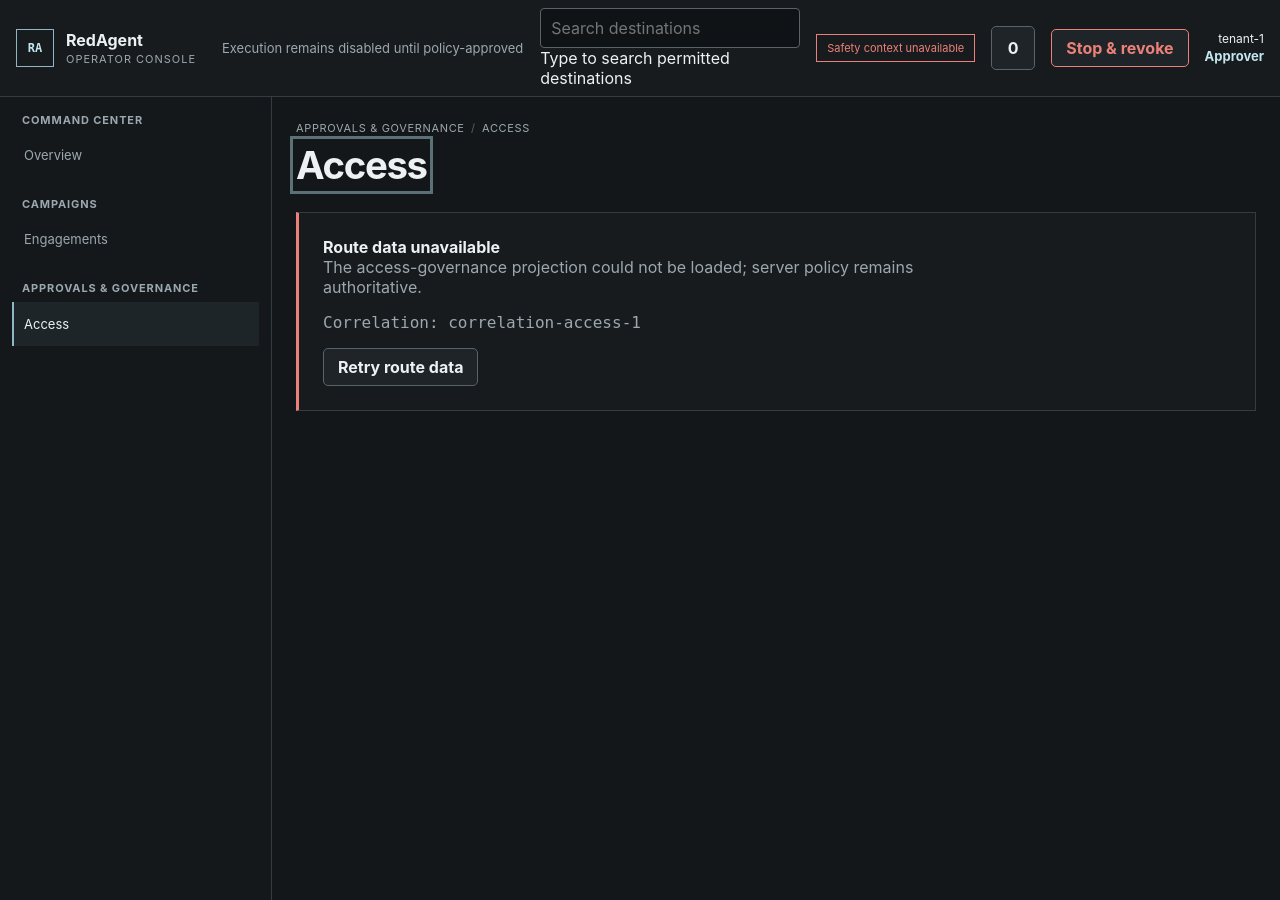
operational console workflows › keeps Access fail-closed when route data fails and retries the authoritative projection
The image size is (1280, 900).
Expected: the message "Route data unavailable" is shown, top-left (296, 212), bottom-right (1256, 411)
Expected: the text "Correlation: correlation-access-1" is shown, top-left (323, 313), bottom-right (641, 332)
Click the button "Retry route data" at (401, 367), box top-left (323, 348), bottom-right (478, 386)
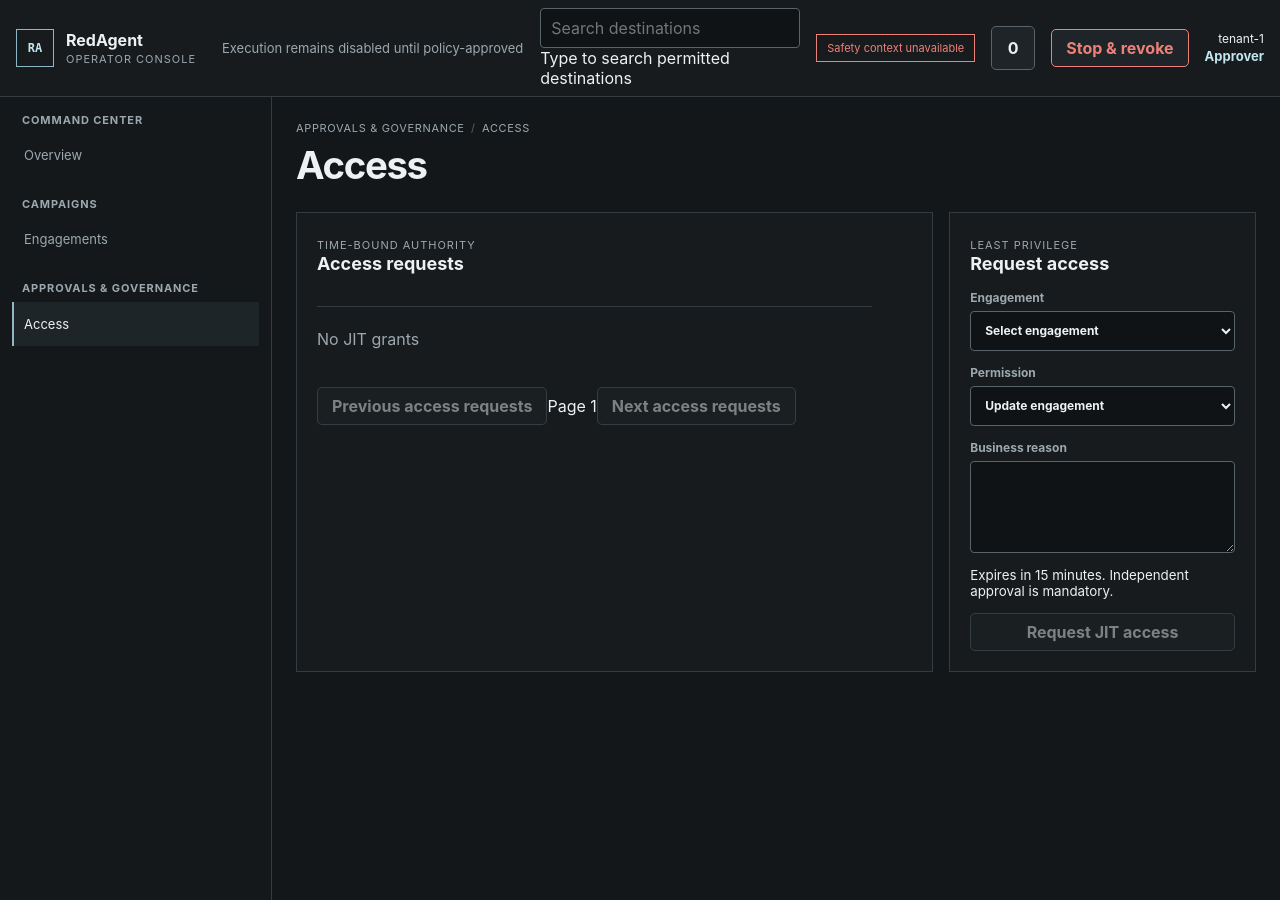
Expected: the text "No JIT grants" is shown, top-left (317, 306), bottom-right (872, 371)
